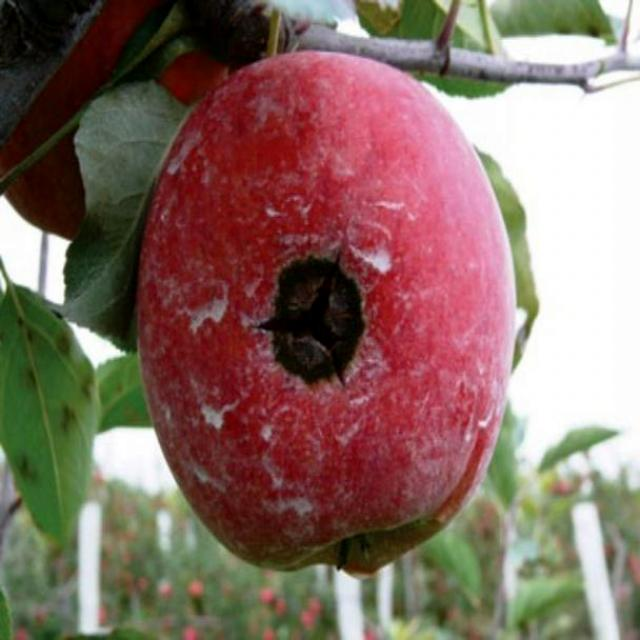SCAB: (123, 61, 549, 577)
